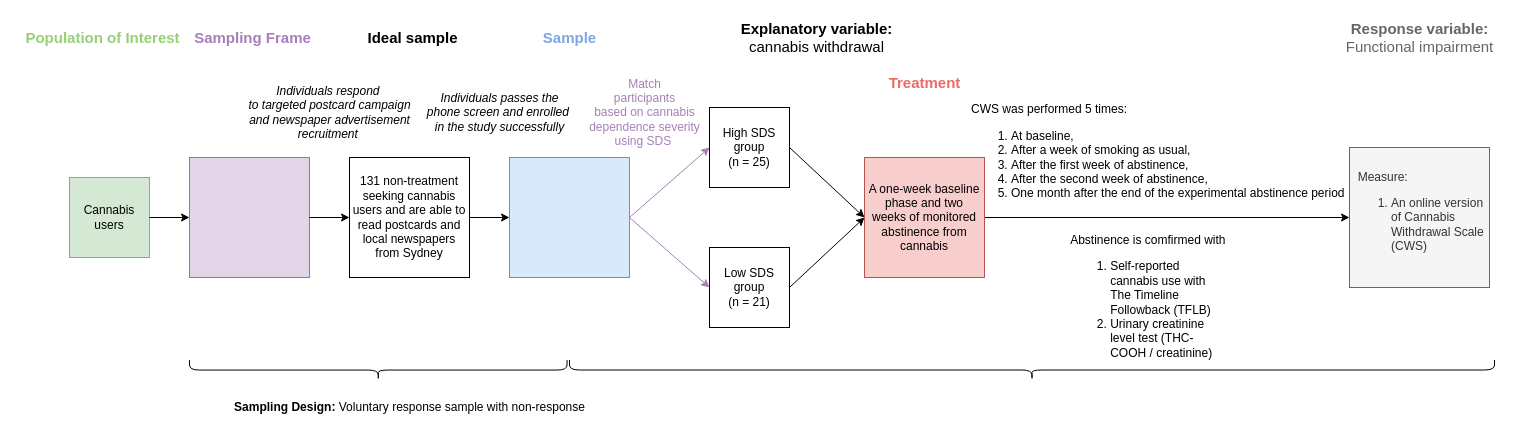
Some shapes in this 1517 by 434 pixel diagram are drawn without their labels. Each missing label, with the centre of its shape:
"49 n on-treatment seeking cannabis users from Sydney, willing to participate" goes at pixel 569 217.
"Non-treatment seeking cannabis users Sydney, Australia" goes at pixel 249 217.
"Study Design: Repeated measures (with randomization)" goes at pixel 1031 369.
